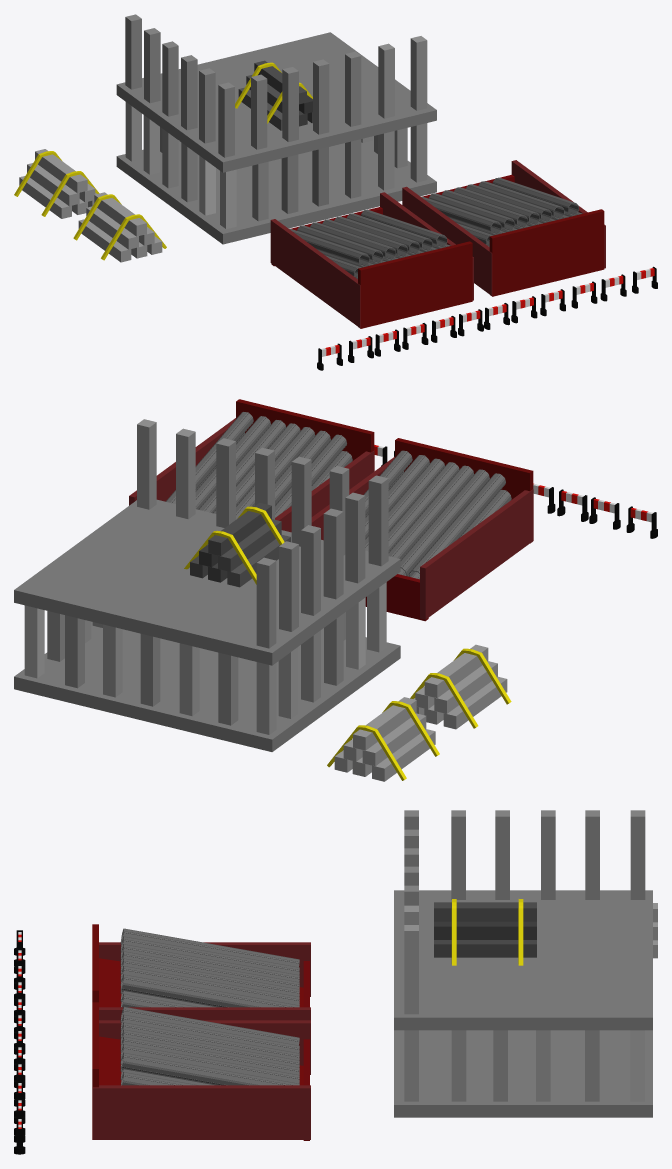
The model's file is construction site .fbx.
The picture shows the model from 3 angles, top to bottom: view 1: azimuth 30°, elevation 25°; view 2: azimuth 150°, elevation 25°; view 3: azimuth 270°, elevation 25°; orthographic projection. The views are drawn at different scales.
Parts seen in each view (by area): view 1: Cube.022, Cube.025, Cube.071, Cube.062, Cube.061, Cube.070, Cube.023, Cube.031, Cube.030, Cube.026, Cube.027, Cube.032 (+42 smaller); view 2: Cube.022, Cube.025, Cube.061, Cube.062, Cube.071, Cylinder.014, Cube.030, Cube.032, Cube.035, Cube.031, Cylinder.015, Cube.033 (+46 smaller); view 3: Cube.022, Cube.025, Cube.069, Cylinder.008, Cylinder.044, Cube.060, Cube.057, Cube.056, Cube.070, Cube.052, Cube.061, Cylinder.045 (+29 smaller).
Part boxes in pixels (x1,y1,x2,y2): Cube.022: (116, 32, 436, 172); Cube.025: (116, 136, 436, 244); Cube.071: (489, 209, 604, 296); Cube.062: (358, 241, 472, 328); Cube.061: (270, 219, 360, 327); Cube.070: (402, 186, 492, 295); Cube.023: (410, 36, 427, 110); Cube.031: (199, 68, 215, 143); Cube.030: (218, 82, 234, 157); Cube.026: (345, 51, 361, 126); Cube.027: (313, 59, 329, 134); Cube.032: (181, 55, 197, 130); Cube.022: (14, 499, 400, 665); Cube.025: (14, 621, 400, 751); Cube.061: (420, 489, 533, 619); Cube.062: (395, 438, 533, 543); Cube.071: (236, 399, 374, 460); Cylinder.014: (398, 469, 489, 576); Cube.030: (368, 475, 388, 566); Cube.032: (323, 508, 343, 599); Cube.035: (256, 557, 276, 648); Cube.031: (345, 492, 365, 583); Cylinder.015: (409, 473, 505, 579); Cube.033: (301, 525, 320, 615); Cube.022: (394, 890, 652, 1030); Cube.025: (394, 1030, 652, 1117); Cube.069: (93, 1085, 310, 1139); Cylinder.008: (120, 974, 299, 1007); Cylinder.044: (120, 1052, 299, 1085); Cube.060: (99, 1007, 310, 1020); Cube.057: (434, 902, 536, 921); Cube.056: (434, 921, 536, 939); Cube.070: (99, 1020, 310, 1074); Cube.052: (434, 940, 536, 957); Cube.061: (99, 942, 310, 996); Cylinder.045: (120, 1044, 299, 1083).
Bounding box in the file's own units: 12004 × 4609 × 14230.
